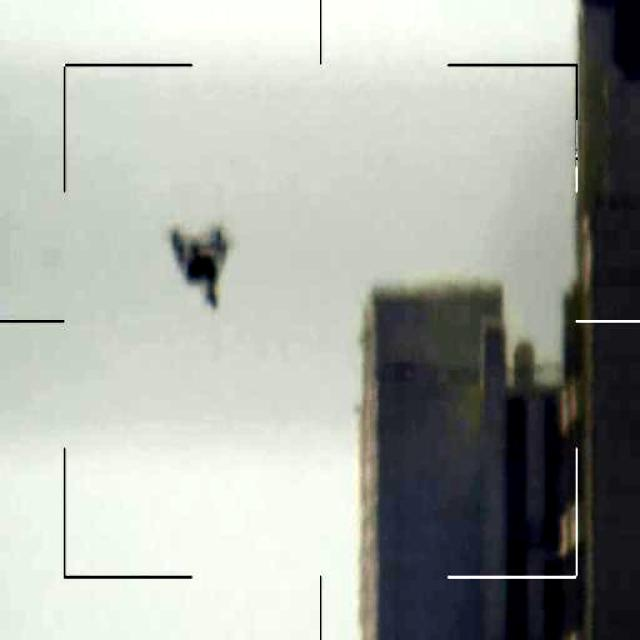bird: (170, 224, 231, 310)
